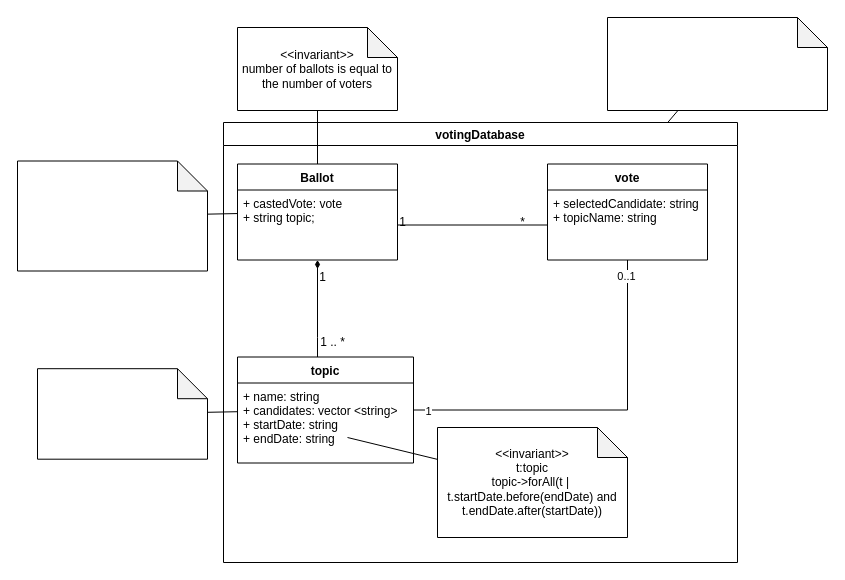
This 845x580 diagram has some shape labels left out. Each missing label, with the centre of its shape:
"<<invariant>> ballot votes will be equal to candidates that voted on that topic." belongs at (x=112, y=215).
"<<invariant>> name, candidates, startDate, endDate <> null" belongs at (x=122, y=413).
"persistance: voting Database will be discarded after the endDate of the election" belongs at (x=717, y=63).
